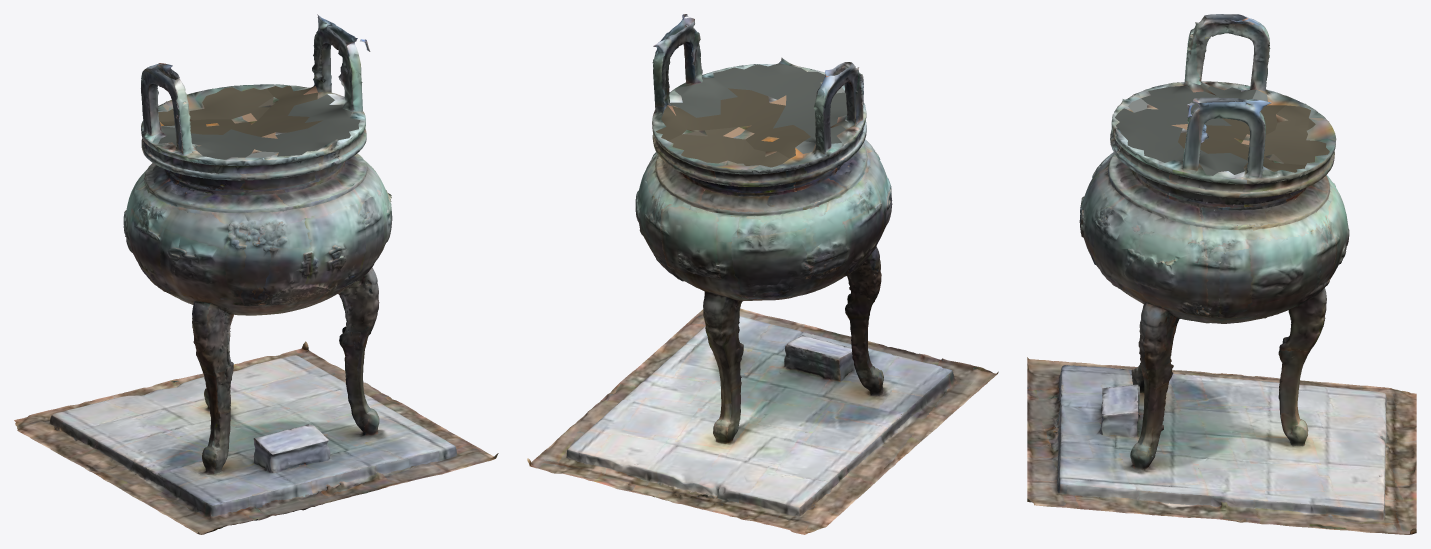
Rendered from CAO-DINH-v1-512.glb.
The picture shows the model from 3 angles, left to right: view 1: azimuth 30°, elevation 25°; view 2: azimuth 150°, elevation 25°; view 3: azimuth 270°, elevation 25°; orthographic projection. The views are drawn at different scales.
Visible parts, largest first — view 1: Object_2; view 2: Object_2; view 3: Object_2.
Boxes of the visible parts, left/top/right/bottom form: Object_2: left=14, top=14, right=498, bottom=534; Object_2: left=527, top=14, right=998, bottom=534; Object_2: left=1027, top=14, right=1416, bottom=534.
Bounding box in the file's own units: 3.03 × 3.91 × 3.38.
1 material, 1 textured.
